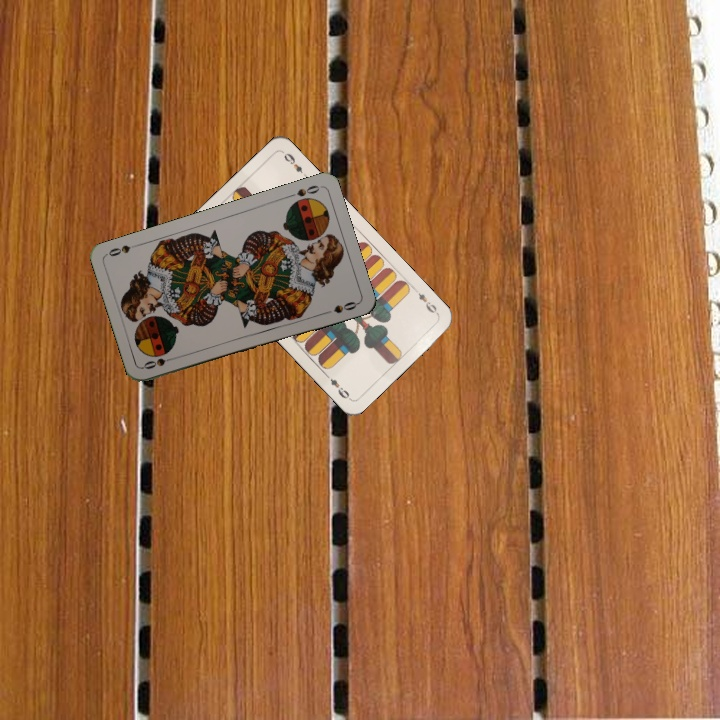E9: (410, 284, 441, 317)
SO: (139, 353, 180, 372), (283, 181, 322, 200)
